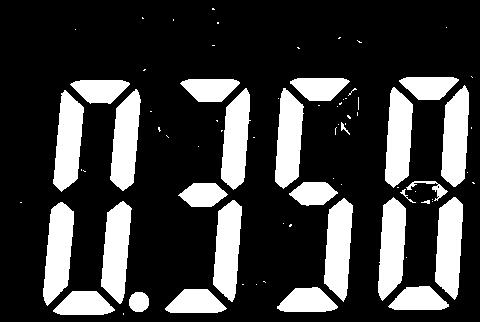0: (39, 77, 142, 315)
3: (160, 72, 253, 320)
5: (266, 75, 357, 317)
8: (375, 68, 467, 316)
dot: (128, 284, 153, 316)
